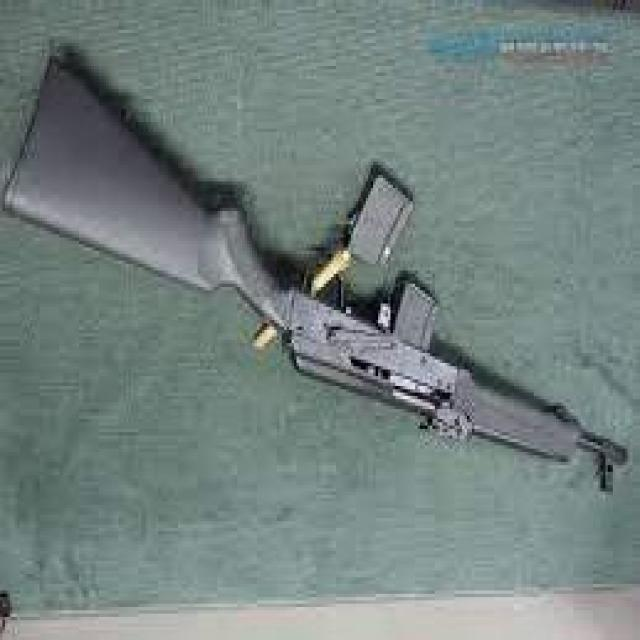weapon: (0, 60, 631, 496)
